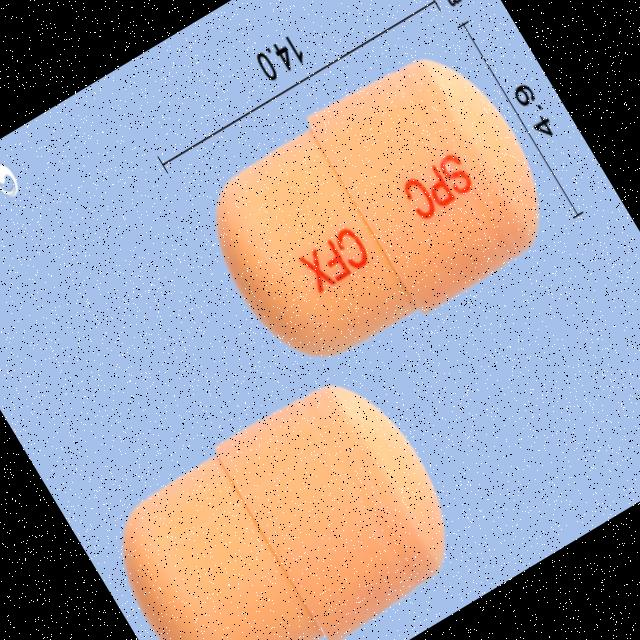Seoul Cefixime Cap: (179, 29, 570, 390), (87, 355, 479, 640)
